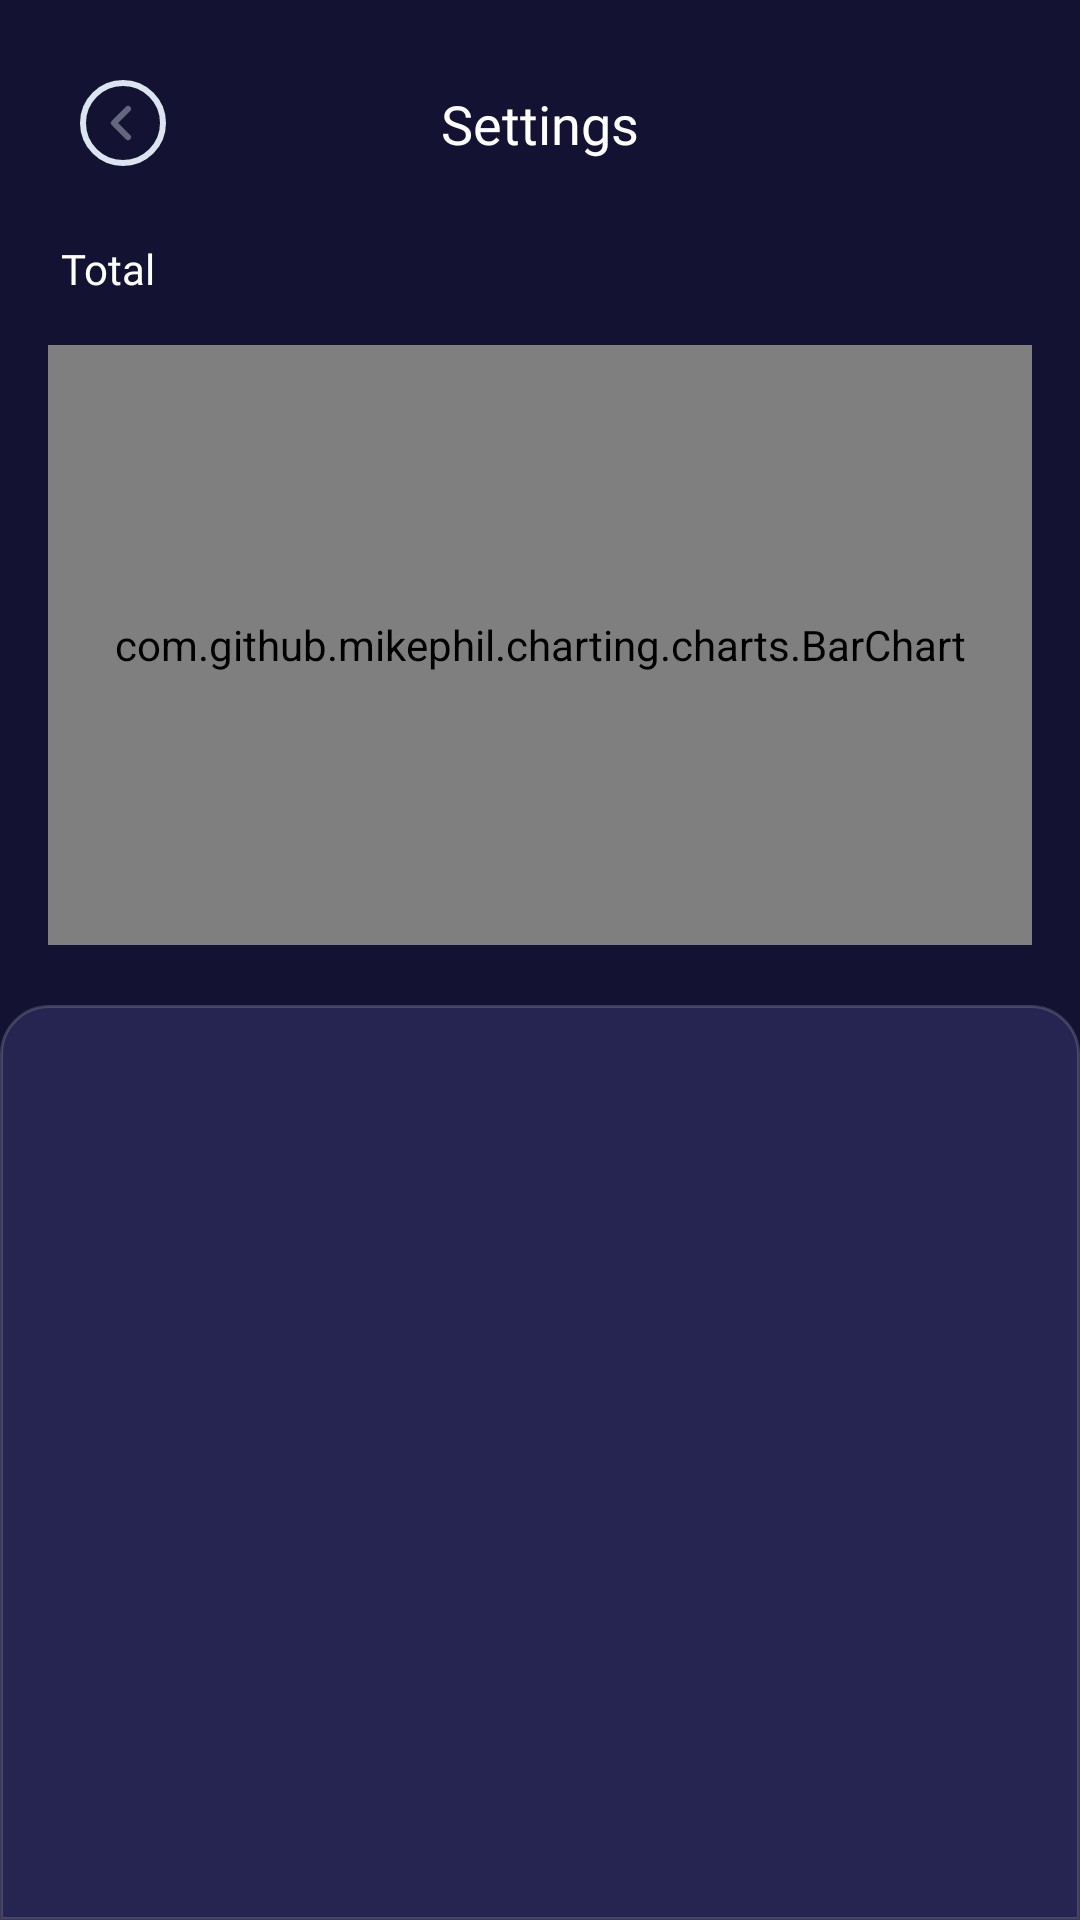

Named icons in this screenshot (1080w x 1920h) and their centers, (x=x, y=y):
back: (x=123, y=123)
